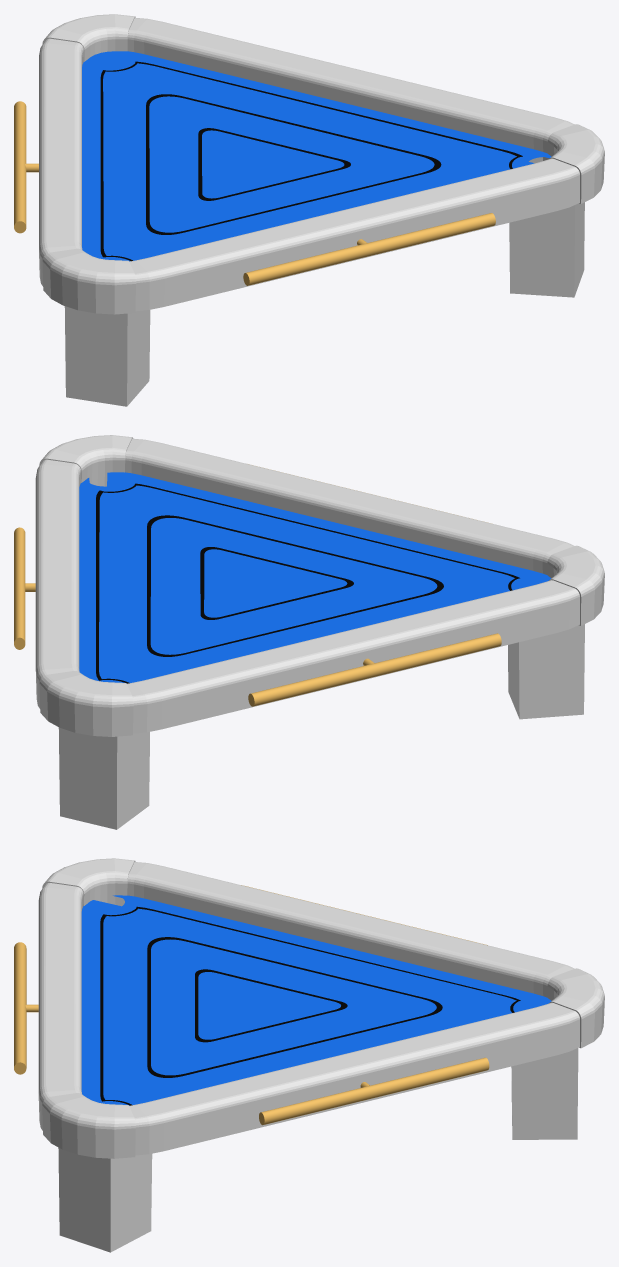
Rendered from Triangle.fbx.
3 renders of one model, top to bottom at view 1: azimuth 30°, elevation 25°; view 2: azimuth 150°, elevation 25°; view 3: azimuth 270°, elevation 25°, orthographic.
Parts seen in each view (by area): view 1: EdgeHighlight, DisplayBase, Hole1TriggerSide2, Hole2TriggerSide2, EdgeRod1, MiddleRing, Hole1TriggerSide1, HoleGlow3, OuterRing, EdgeRod3, HoleGlow2, Triangle (+1 smaller); view 2: EdgeHighlight, DisplayBase, Hole1TriggerSide4, Hole3TriggerSide3, EdgeRod3, HoleGlow3, Hole3TriggerSide4, MiddleRing, OuterRing, EdgeRod2, HoleGlow2, Triangle (+1 smaller); view 3: EdgeHighlight, DisplayBase, Hole3TriggerSide1, Hole2TriggerSide1, Hole2TriggerSide3, EdgeRod2, HoleGlow3, MiddleRing, OuterRing, EdgeRod1, HoleGlow2, Triangle.
Part boxes in pixels (x1,y1,x2,y2): EdgeHighlight: [39, 16, 604, 314]; DisplayBase: [82, 51, 551, 261]; Hole1TriggerSide2: [64, 306, 127, 406]; Hole2TriggerSide2: [509, 205, 574, 297]; EdgeRod1: [243, 213, 495, 285]; MiddleRing: [146, 94, 441, 234]; Hole1TriggerSide1: [127, 310, 150, 406]; HoleGlow3: [44, 14, 135, 58]; OuterRing: [100, 61, 522, 261]; EdgeRod3: [14, 101, 26, 233]; HoleGlow2: [547, 124, 604, 203]; Triangle: [198, 128, 350, 200]; EdgeHighlight: [35, 435, 604, 736]; DisplayBase: [79, 472, 551, 683]; Hole1TriggerSide4: [519, 624, 584, 719]; Hole3TriggerSide3: [58, 727, 117, 829]; EdgeRod3: [248, 633, 501, 706]; HoleGlow3: [39, 671, 133, 735]; Hole3TriggerSide4: [117, 732, 149, 829]; MiddleRing: [147, 515, 443, 656]; OuterRing: [96, 483, 519, 683]; EdgeRod2: [14, 527, 25, 649]; HoleGlow2: [41, 435, 132, 486]; Triangle: [200, 547, 353, 619]; EdgeHighlight: [38, 858, 604, 1158]; DisplayBase: [81, 895, 551, 1105]; Hole3TriggerSide1: [511, 1048, 578, 1139]; Hole2TriggerSide1: [58, 1147, 110, 1252]; Hole2TriggerSide3: [110, 1153, 152, 1252]; EdgeRod2: [259, 1057, 489, 1125]; HoleGlow3: [548, 968, 604, 1041]; MiddleRing: [147, 937, 442, 1077]; OuterRing: [100, 906, 520, 1105]; EdgeRod1: [14, 942, 26, 1074]; HoleGlow2: [42, 1093, 135, 1158]; Triangle: [195, 969, 347, 1042].
Bounding box in the file's own units: 2.58 × 0.6241 × 2.43.
